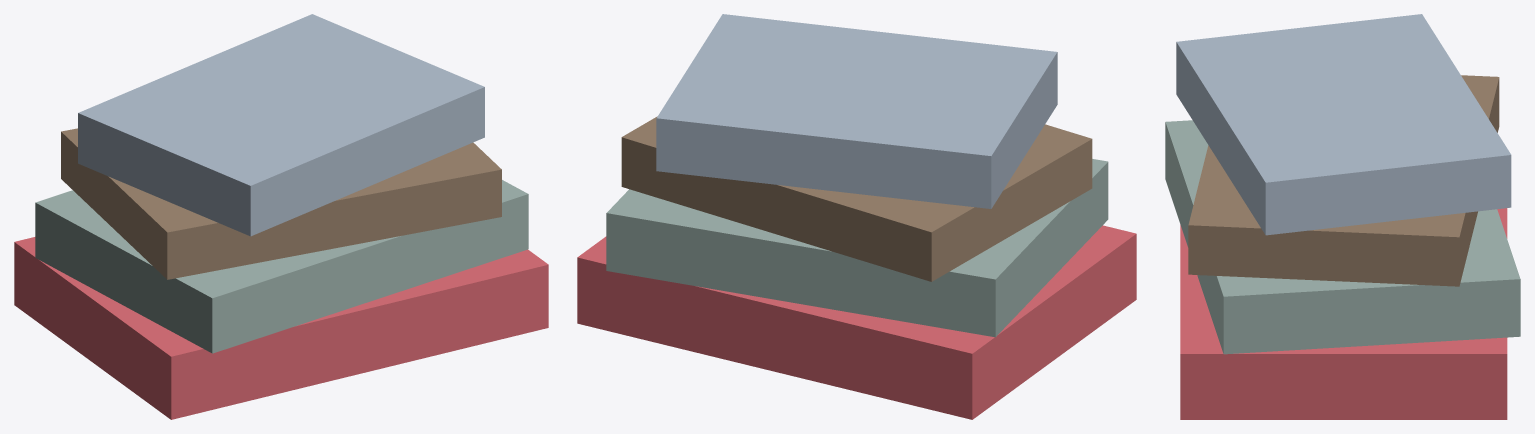
The model's file is book-stack.gltf.
3 views of the same model, side by side, from view 1: azimuth 30°, elevation 25°; view 2: azimuth 150°, elevation 25°; view 3: azimuth 270°, elevation 25° (orthographic). The views are drawn at different scales.
Visible parts, largest first — view 1: book_4, book_1, book_2, book_3; view 2: book_4, book_1, book_2, book_3; view 3: book_4, book_1, book_2, book_3.
Boxes of the visible parts, bbox=[...] form: book_4: bbox=[78, 14, 484, 236]; book_1: bbox=[14, 237, 548, 419]; book_2: bbox=[35, 180, 528, 353]; book_3: bbox=[61, 128, 501, 279]; book_4: bbox=[656, 14, 1057, 208]; book_1: bbox=[577, 225, 1136, 419]; book_2: bbox=[606, 159, 1108, 337]; book_3: bbox=[621, 116, 1092, 281]; book_4: bbox=[1176, 14, 1511, 235]; book_1: bbox=[1180, 208, 1507, 419]; book_2: bbox=[1165, 120, 1520, 354]; book_3: bbox=[1188, 75, 1499, 286].
Size of the model in its own units: 0.0157 by 0.00856 by 0.0122.
